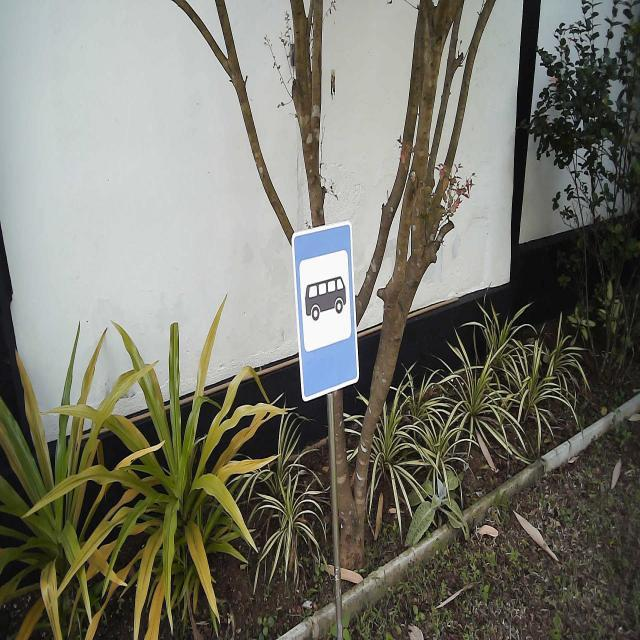bus_stop: (291, 220, 360, 404)
